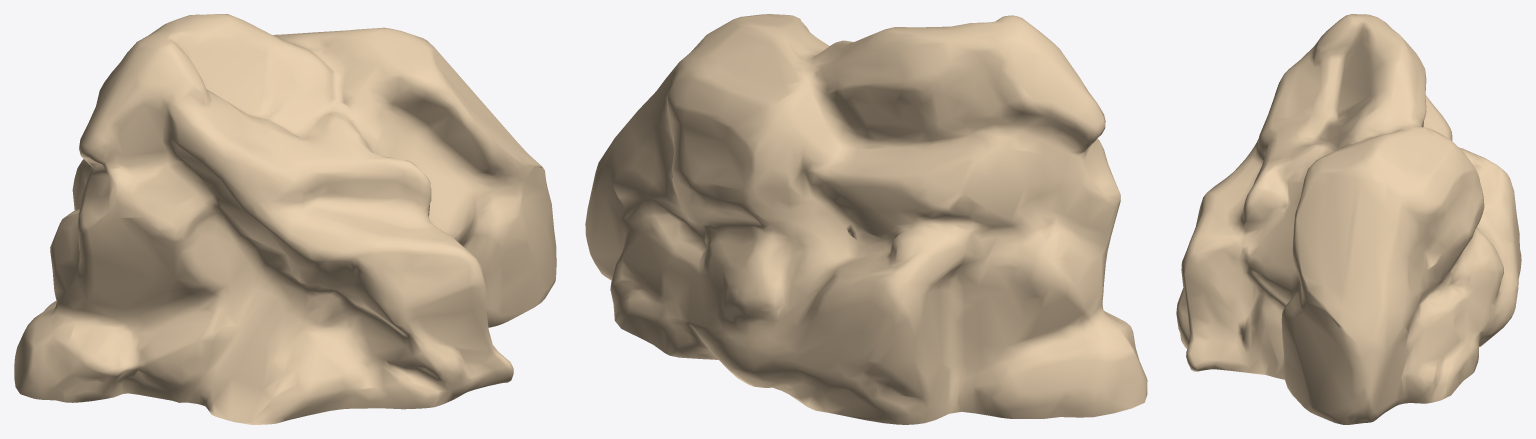
Rendered from EnvLand002_Big_Stone.fbx.
3 views of the same model, side by side, from view 1: azimuth 30°, elevation 25°; view 2: azimuth 150°, elevation 25°; view 3: azimuth 270°, elevation 25° (orthographic). The views are drawn at different scales.
Parts seen in each view (by area): view 1: mountain_low; view 2: mountain_low; view 3: mountain_low.
Part boxes in pixels (left/top/right/bottom): mountain_low: left=14, top=14, right=556, bottom=424; mountain_low: left=585, top=14, right=1147, bottom=424; mountain_low: left=1176, top=14, right=1521, bottom=424.
Bounding box in the file's own units: 2297 × 1354 × 1621.
